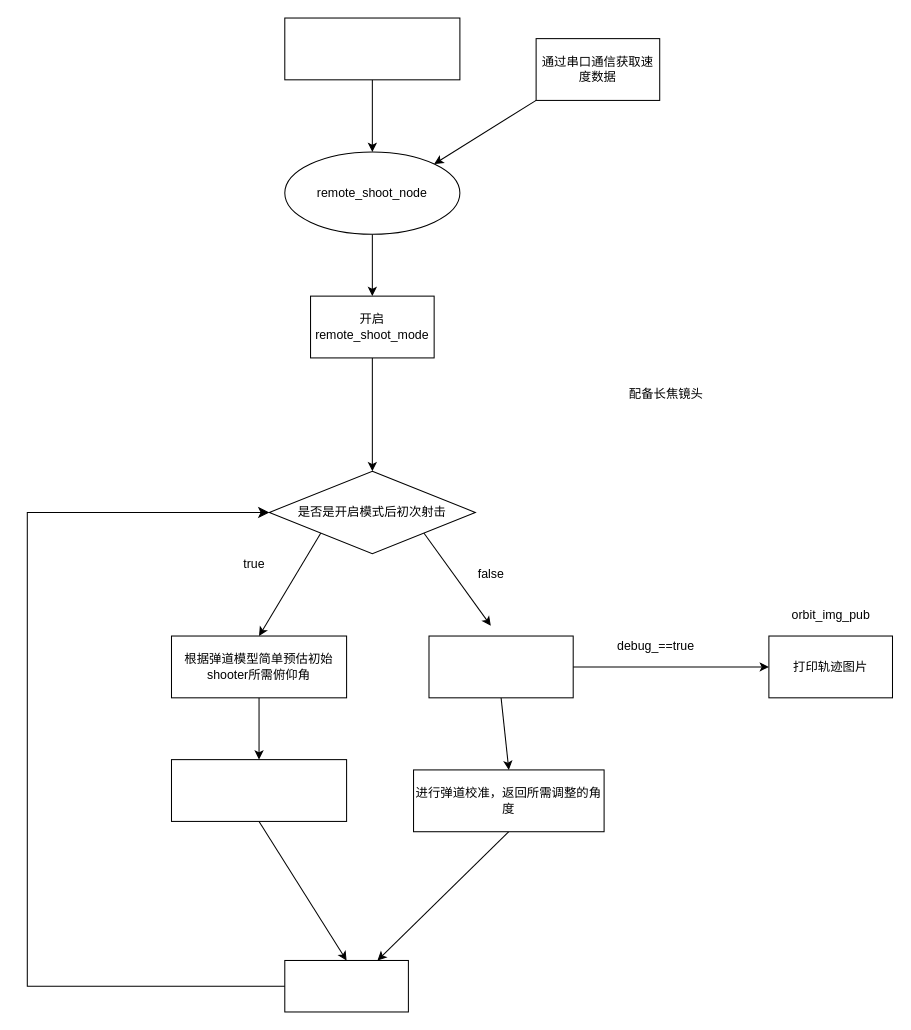
This 911x1030 diagram has some shape labels left out. Here are the shapes that lost their labels. From the top down, the centre of each, then its label:
At (372,48): "通过tracker话题获取预估目标位置信息".
At (500,666): "进行上次射击的弹道检测".
At (258,790): "根据弹道方程预估射击时间，设置提前量pre_yaw".
At (346,985): "射击".
